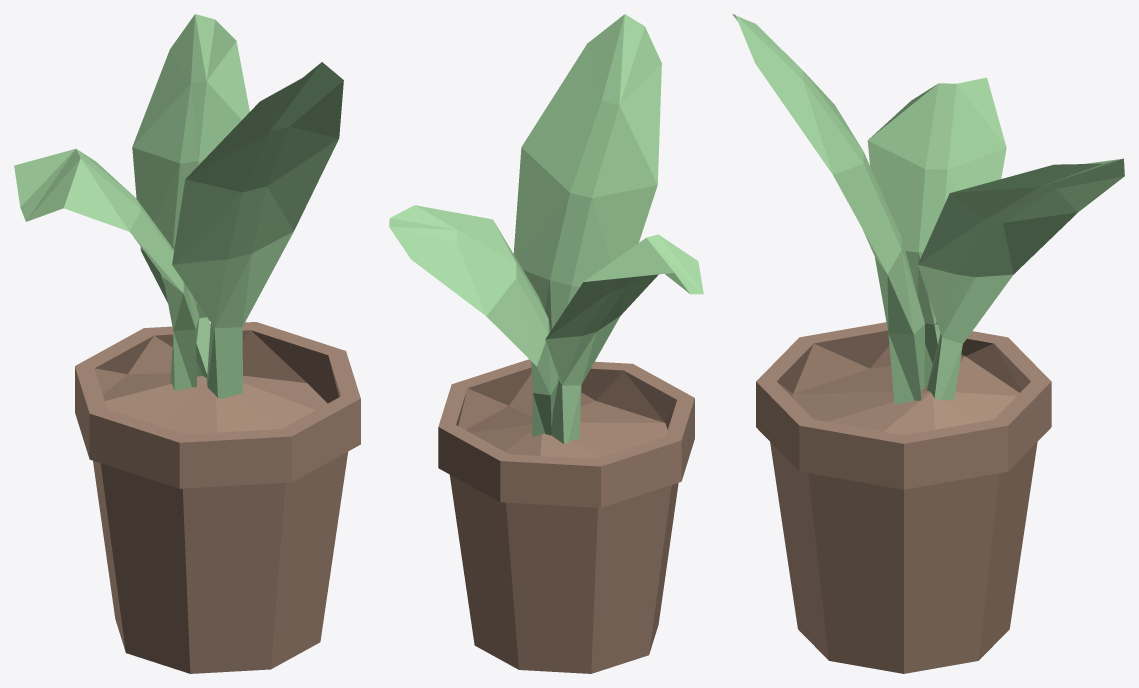
The model's file is plants.fbx.
The picture shows the model from 3 angles, left to right: view 1: azimuth 30°, elevation 25°; view 2: azimuth 150°, elevation 25°; view 3: azimuth 270°, elevation 25°; orthographic projection. The views are drawn at different scales.
Parts seen in each view (by area): view 1: polySurface9; view 2: polySurface9; view 3: polySurface9.
Part boxes in pixels (left/top/right/bottom): polySurface9: left=14, top=14, right=360, bottom=673; polySurface9: left=389, top=14, right=703, bottom=673; polySurface9: left=732, top=14, right=1124, bottom=673.
Bounding box in the file's own units: 34.15 × 67.92 × 38.73.
